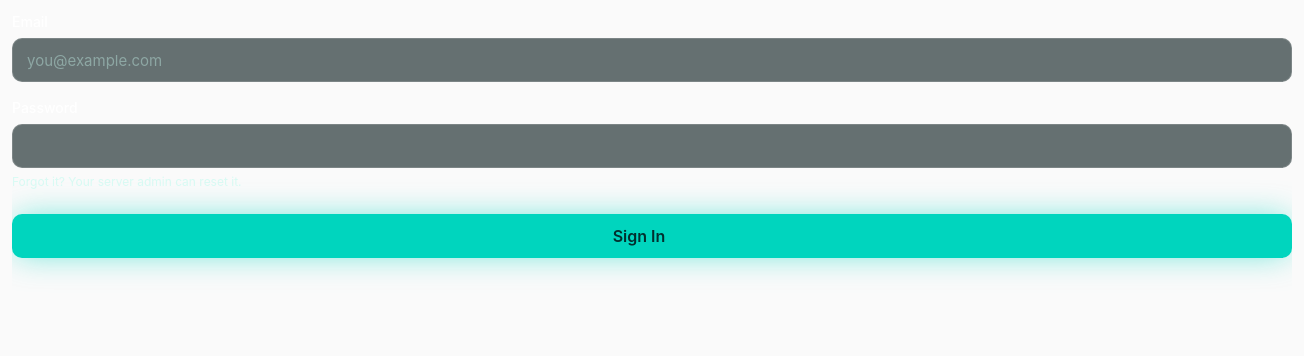
Test case: Login › shows an error and stays put on bad credentials
In the field labelled "Email": (652, 60) x1=12 y1=38 x2=1292 y2=82, type "alice@example.com"
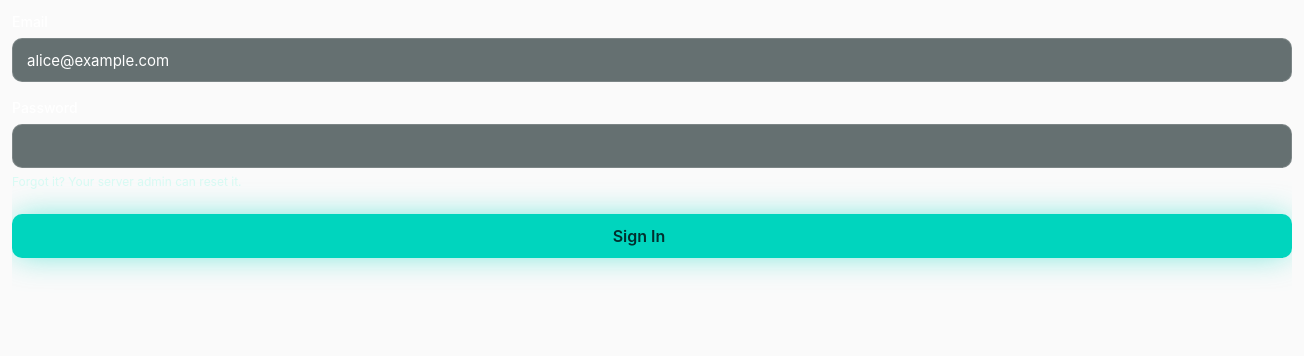
In the password field labelled "Password": (652, 146) x1=12 y1=124 x2=1292 y2=168, type "wrong"
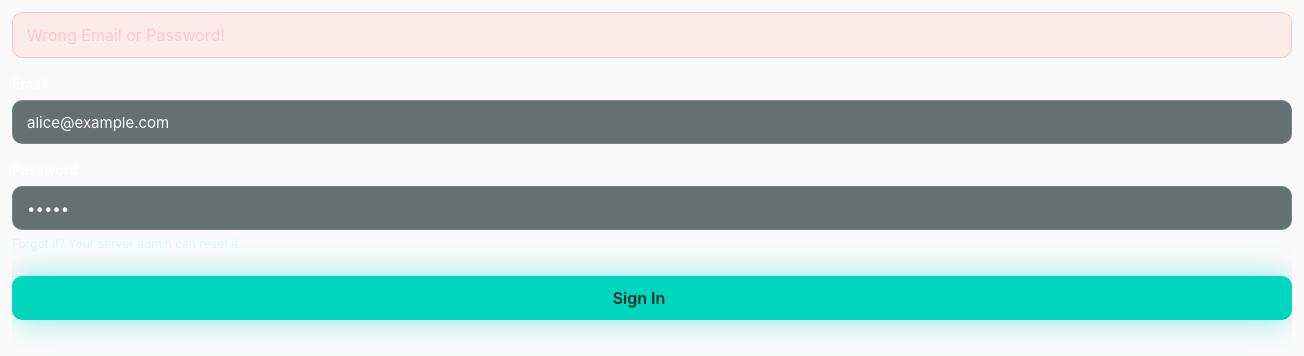
Now the form shows "Wrong Email or Password!", box x1=27 y1=25 x2=225 y2=45
